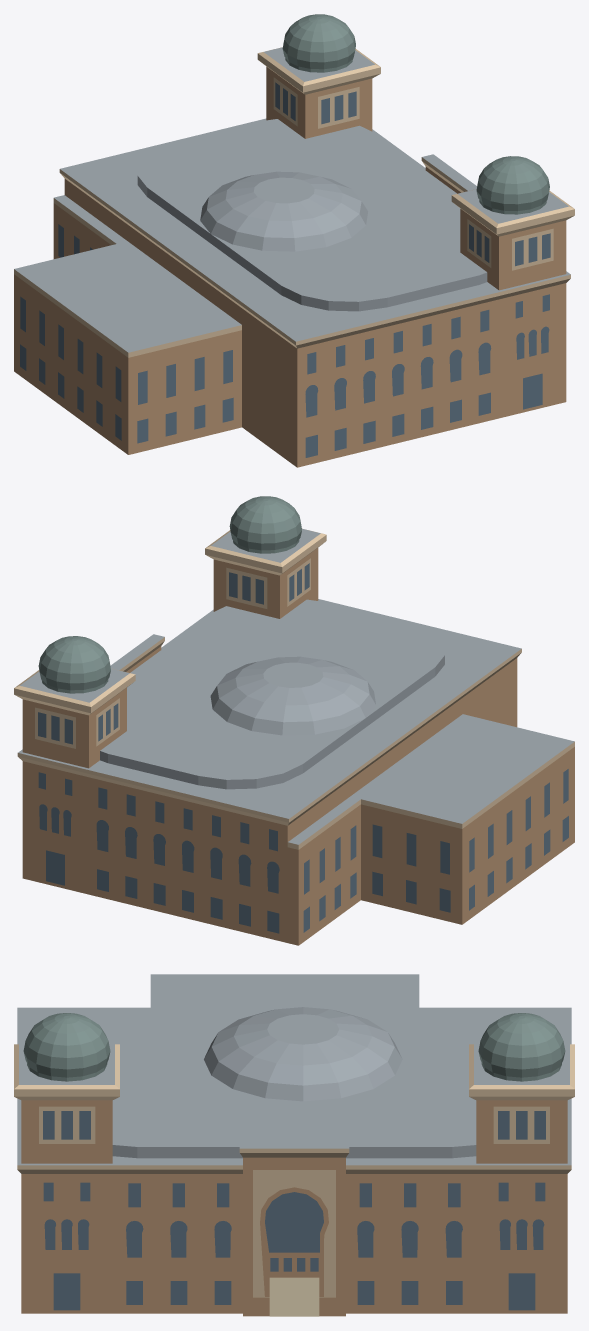
The model's file is chi-medinah-temple.glb.
3 views of the same model, one above another, from view 1: azimuth 30°, elevation 25°; view 2: azimuth 150°, elevation 25°; view 3: azimuth 270°, elevation 25° (orthographic). The views are drawn at different scales.
Visible parts, largest first — view 1: Medinah Temple; view 2: Medinah Temple; view 3: Medinah Temple.
Boxes of the visible parts, x1,y1,x2,y2 form: Medinah Temple: [14, 14, 574, 467]; Medinah Temple: [14, 496, 574, 945]; Medinah Temple: [14, 974, 574, 1316].
Bounding box in the file's own units: 63.76 × 36.9 × 67.7.
